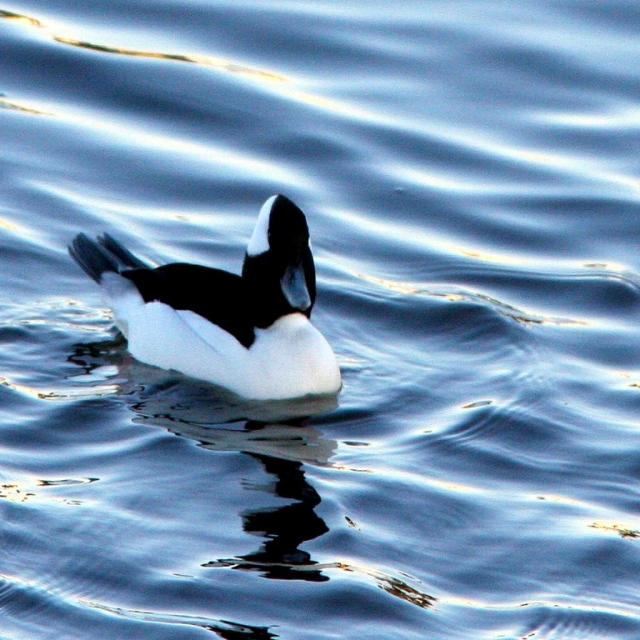bird: (54, 179, 351, 413)
